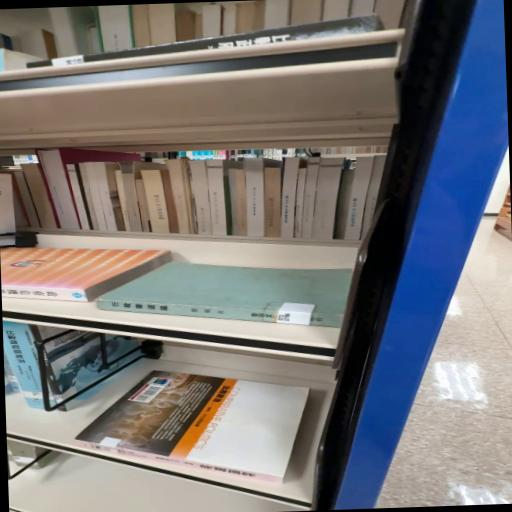flat: (76, 371, 310, 483), (97, 263, 352, 328)
